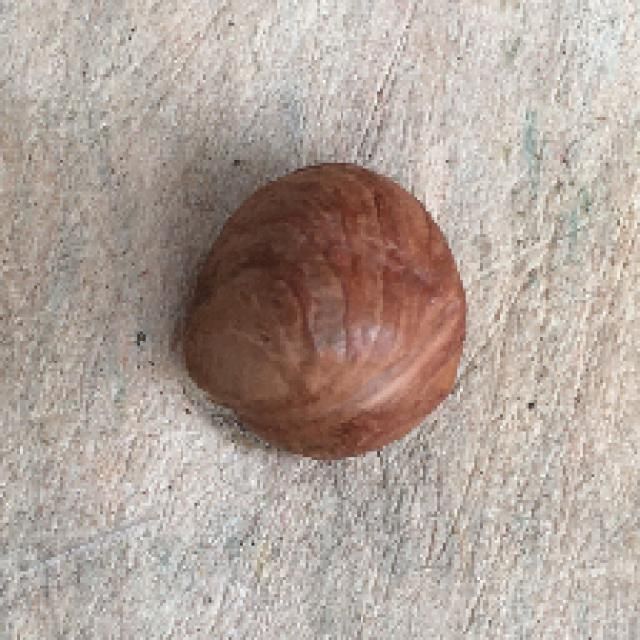hazelnut: (189, 147, 480, 475)
